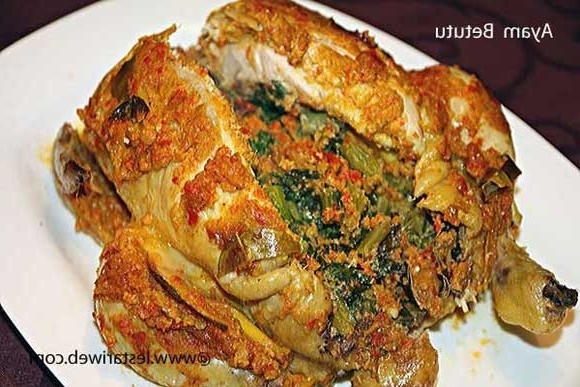ayam_betutu: (82, 1, 580, 387)
